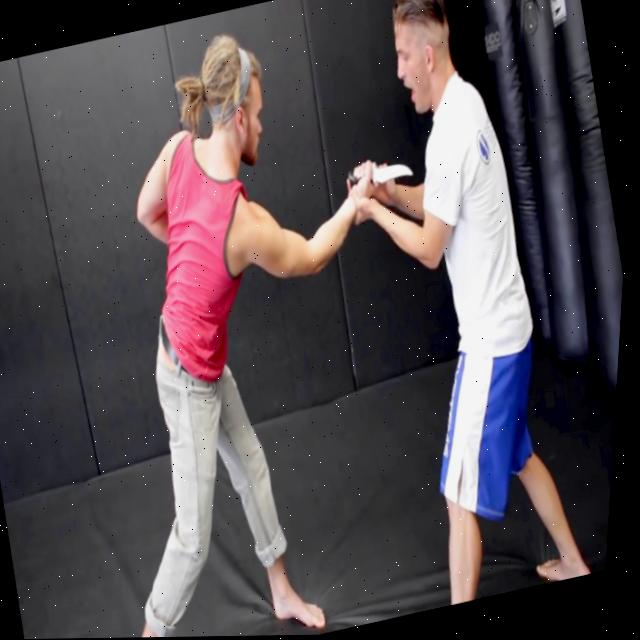knife: (368, 154, 416, 188)
